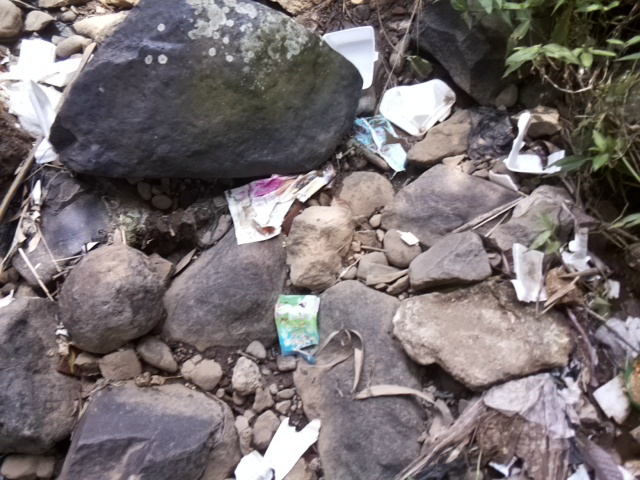Sampah_Plastik: (219, 168, 340, 244), (274, 292, 322, 359)
Sampah_Styrofoam: (1, 49, 80, 146), (379, 75, 457, 137), (508, 115, 564, 176)
